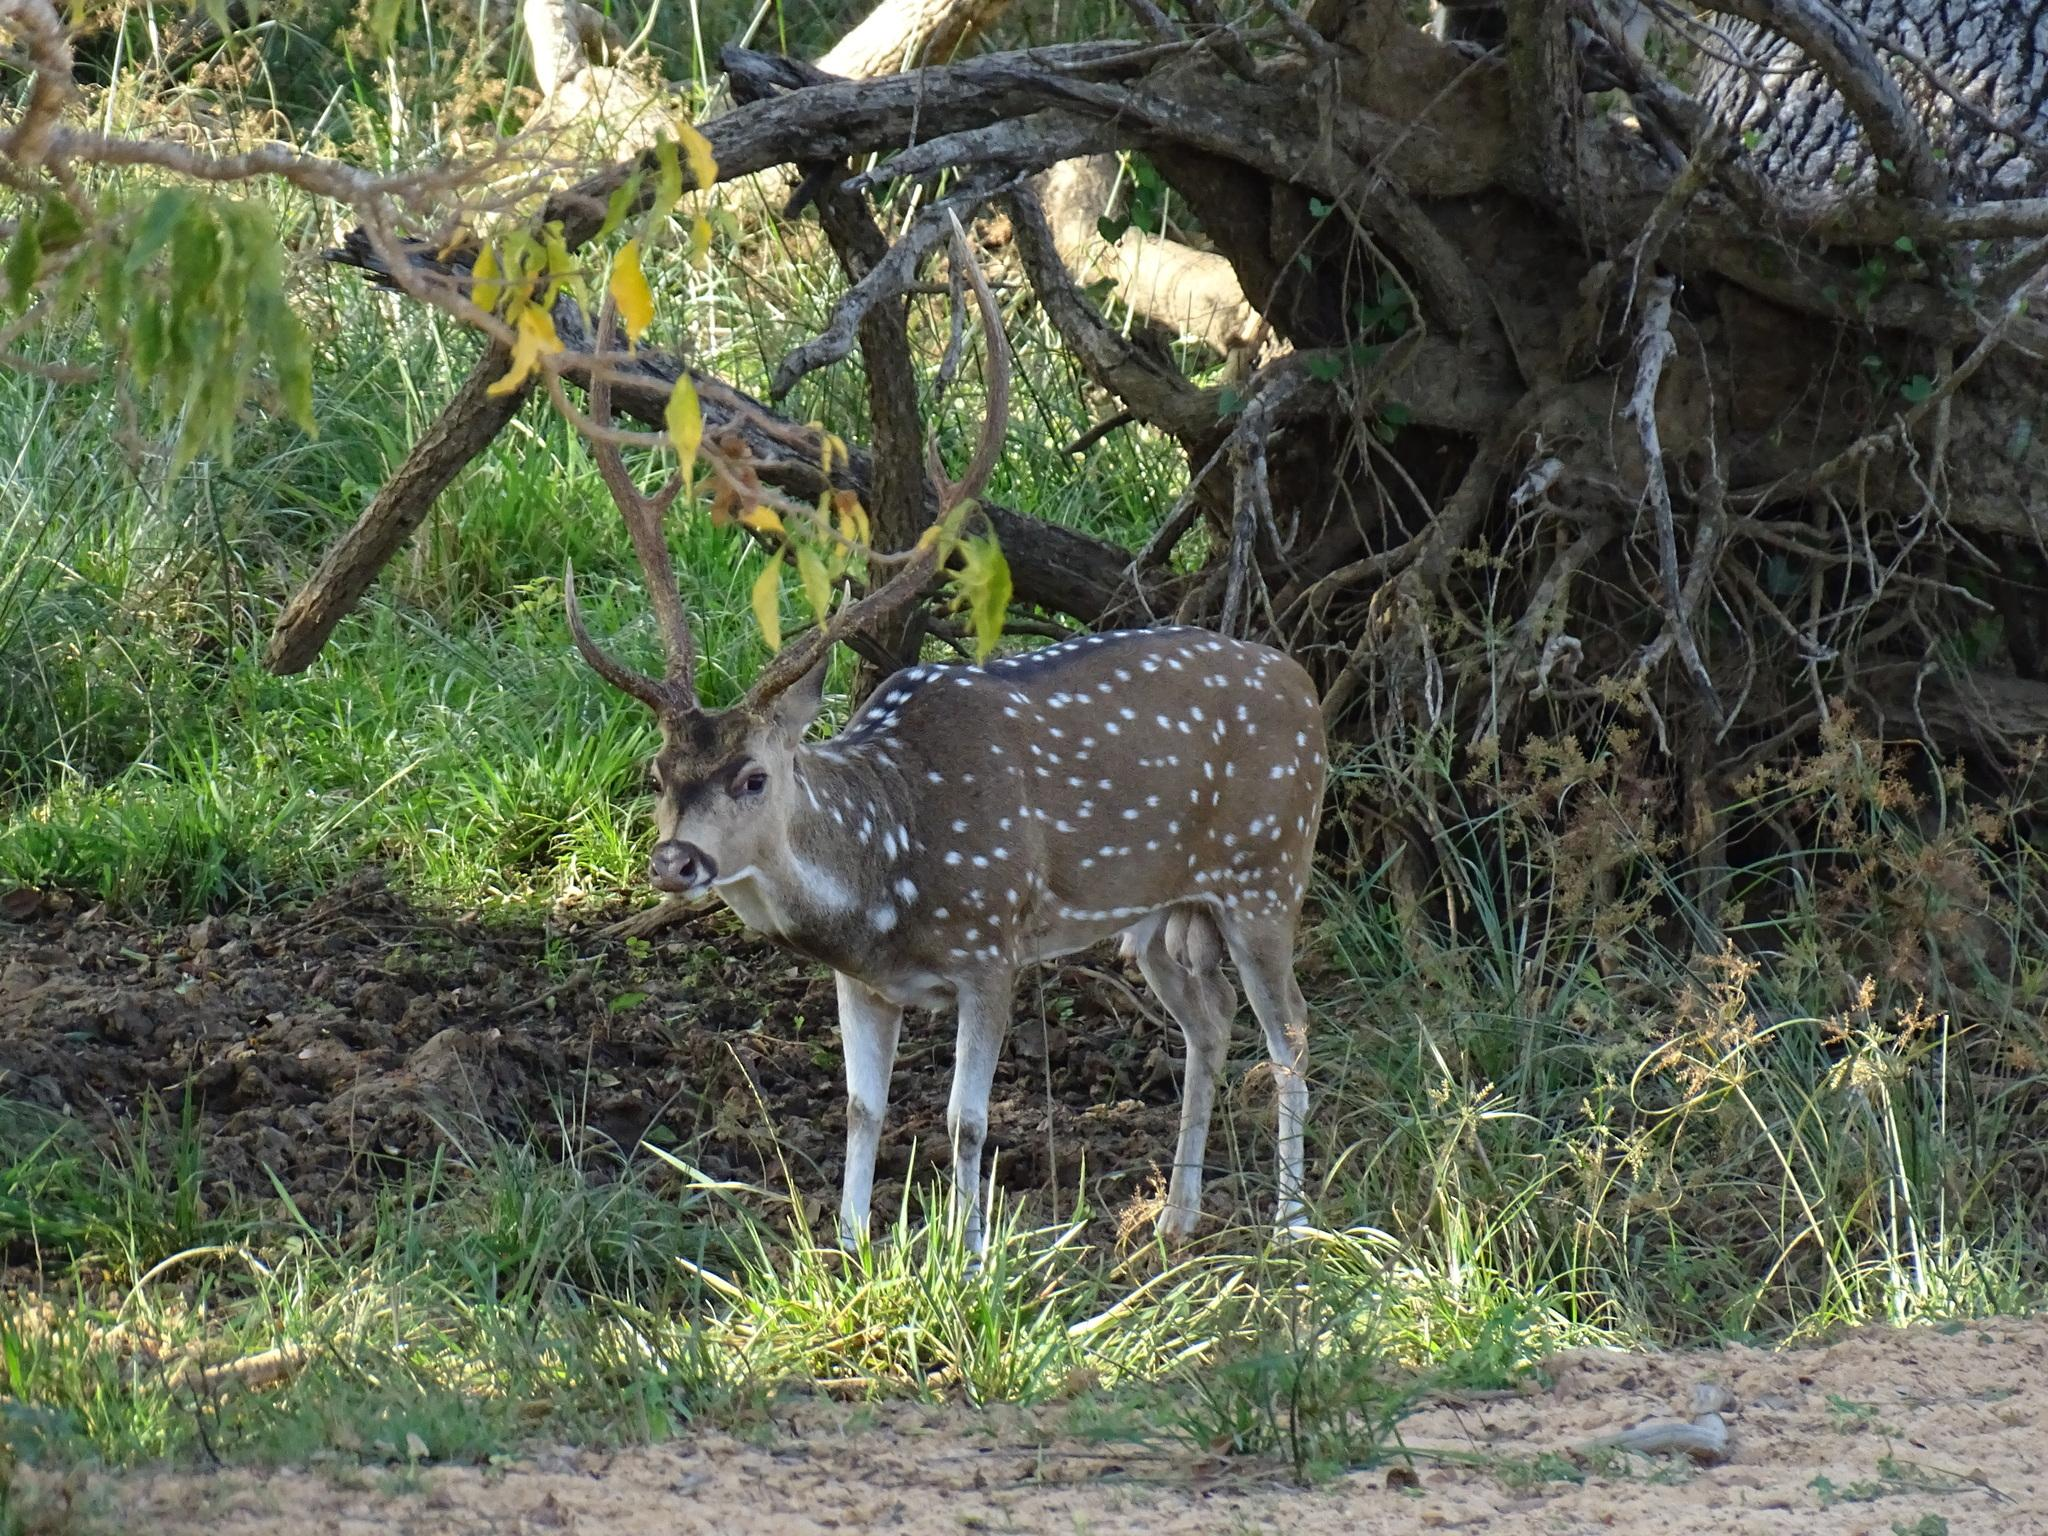Deer: (566, 423, 1326, 1255)
